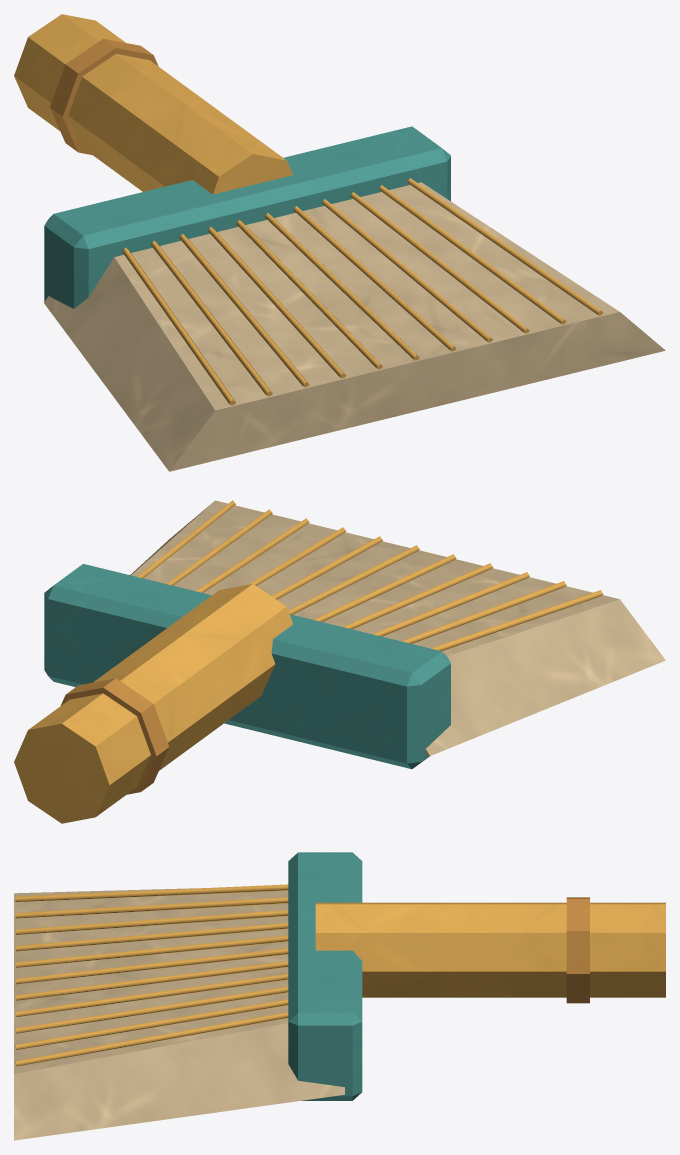
Rendered from tool_print_brush.glb.
3 views of the same model, one above another, from view 1: azimuth 30°, elevation 25°; view 2: azimuth 150°, elevation 25°; view 3: azimuth 270°, elevation 25° (orthographic). The views are drawn at different scales.
Parts seen in each view (by area): view 1: tool_print_brush__bound_paper_bristles, tool_print_brush__bamboo_handle, tool_print_brush__teal_binding, tool_print_brush__bamboo_node, tool_print_brush__fibre.010, tool_print_brush__fibre.009, tool_print_brush__fibre.008, tool_print_brush__fibre, tool_print_brush__fibre.001, tool_print_brush__fibre.002, tool_print_brush__fibre.003, tool_print_brush__fibre.005 (+3 smaller); view 2: tool_print_brush__bound_paper_bristles, tool_print_brush__teal_binding, tool_print_brush__bamboo_handle, tool_print_brush__bamboo_node, tool_print_brush__fibre, tool_print_brush__fibre.001, tool_print_brush__fibre.002, tool_print_brush__fibre.003, tool_print_brush__fibre.004, tool_print_brush__fibre.005, tool_print_brush__fibre.008, tool_print_brush__fibre.006 (+3 smaller); view 3: tool_print_brush__bound_paper_bristles, tool_print_brush__bamboo_handle, tool_print_brush__teal_binding, tool_print_brush__bamboo_node, tool_print_brush__fibre.010, tool_print_brush__fibre.004, tool_print_brush__fibre, tool_print_brush__fibre.003, tool_print_brush__fibre.005, tool_print_brush__fibre.001, tool_print_brush__fibre.008, tool_print_brush__fibre.002 (+3 smaller).
Part boxes in pixels (x1,y1,x2,y2): tool_print_brush__bound_paper_bristles: (44, 182, 665, 471); tool_print_brush__bamboo_handle: (14, 14, 292, 194); tool_print_brush__teal_binding: (44, 126, 450, 308); tool_print_brush__bamboo_node: (50, 38, 158, 154); tool_print_brush__fibre.010: (407, 178, 603, 315); tool_print_brush__fibre.009: (378, 185, 566, 324); tool_print_brush__fibre.008: (350, 192, 529, 333); tool_print_brush__fibre: (122, 247, 235, 404); tool_print_brush__fibre.001: (151, 241, 272, 396); tool_print_brush__fibre.002: (179, 234, 309, 387); tool_print_brush__fibre.003: (208, 227, 346, 378); tool_print_brush__fibre.005: (265, 213, 419, 360); tool_print_brush__bound_paper_bristles: (130, 500, 665, 755); tool_print_brush__teal_binding: (44, 564, 450, 769); tool_print_brush__bamboo_handle: (14, 584, 292, 823); tool_print_brush__bamboo_node: (60, 678, 169, 794); tool_print_brush__fibre: (430, 590, 603, 651); tool_print_brush__fibre.001: (401, 581, 566, 643); tool_print_brush__fibre.002: (372, 572, 529, 636); tool_print_brush__fibre.003: (343, 563, 492, 629); tool_print_brush__fibre.004: (313, 554, 456, 621); tool_print_brush__fibre.005: (288, 545, 419, 614); tool_print_brush__fibre.008: (195, 518, 309, 592); tool_print_brush__fibre.006: (271, 536, 382, 599); tool_print_brush__bound_paper_bristles: (14, 888, 344, 1140); tool_print_brush__bamboo_handle: (315, 902, 665, 997); tool_print_brush__teal_binding: (288, 852, 362, 1100); tool_print_brush__bamboo_node: (566, 897, 589, 1003); tool_print_brush__fibre.010: (15, 1012, 288, 1066); tool_print_brush__fibre.004: (15, 935, 288, 967); tool_print_brush__fibre: (15, 884, 288, 901); tool_print_brush__fibre.003: (15, 922, 288, 951); tool_print_brush__fibre.005: (15, 948, 288, 984); tool_print_brush__fibre.001: (15, 897, 288, 918); tool_print_brush__fibre.008: (15, 986, 288, 1033); tool_print_brush__fibre.002: (15, 910, 288, 934).
Bounding box in the file's own units: 0.27 × 0.074 × 0.335.
Materials: 4 (4 with a texture image).
